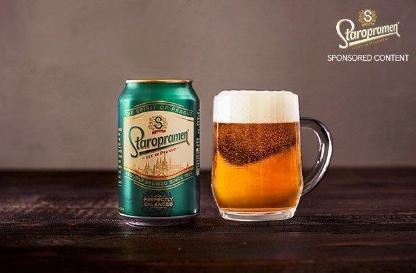Can: (118, 76, 202, 226)
